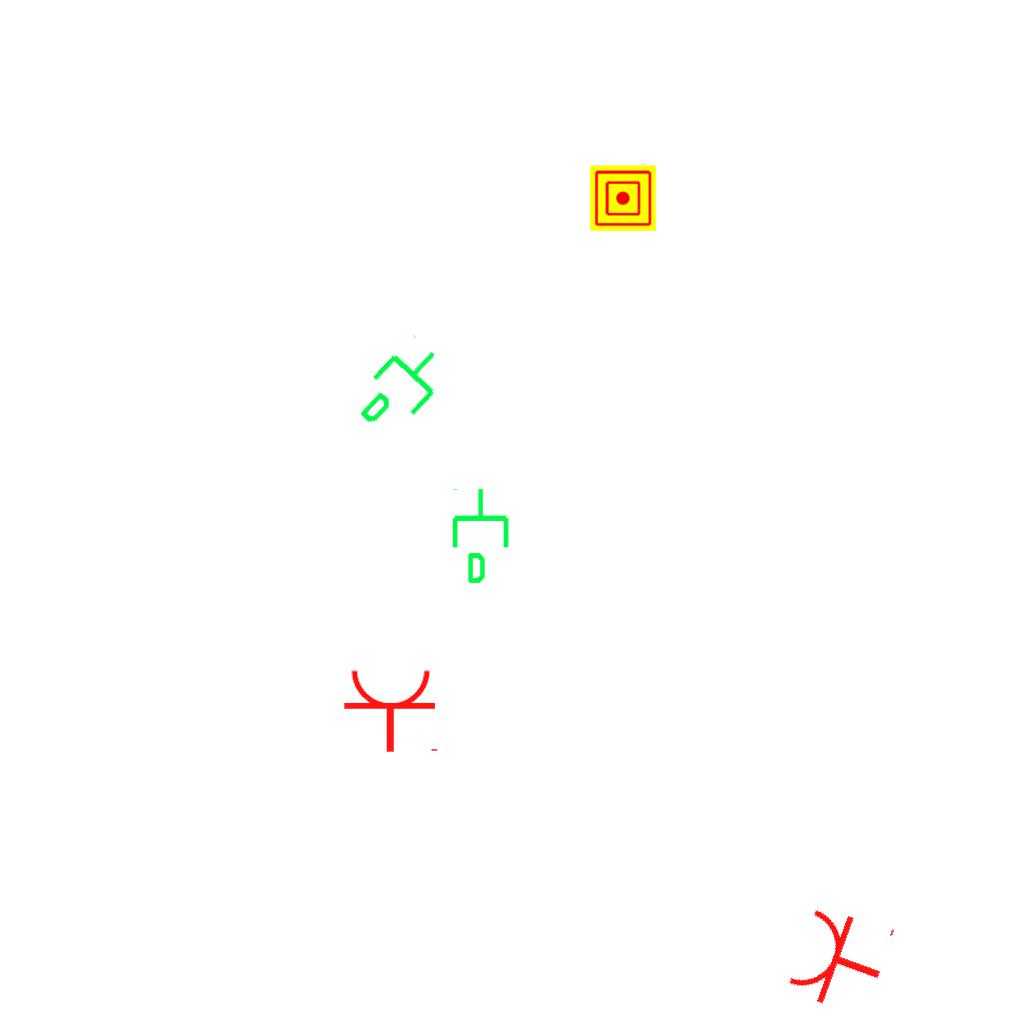Datenanschluss_einfach: (343, 328, 462, 450), (448, 486, 517, 586)
NAM-Nichtautomatischer_Melder: (590, 165, 656, 231)
Schukosteckdose_einfach: (782, 897, 899, 1021), (342, 667, 442, 754)
